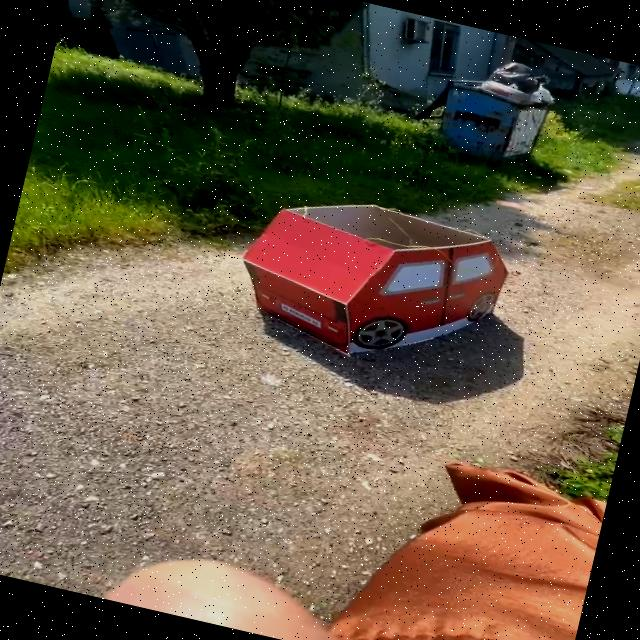red_car: (209, 167, 549, 419)
